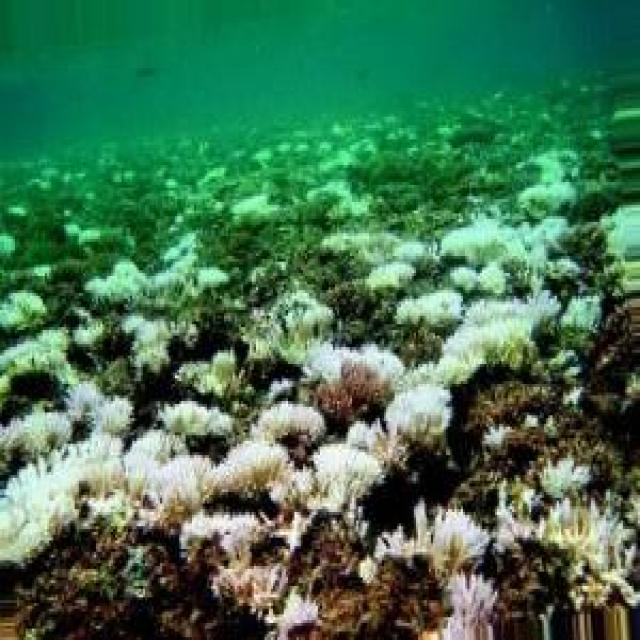bleached coral: (0, 432, 213, 558), (446, 324, 563, 466), (252, 290, 365, 395), (439, 222, 559, 299), (87, 245, 224, 304), (0, 466, 77, 552), (311, 444, 386, 512)
